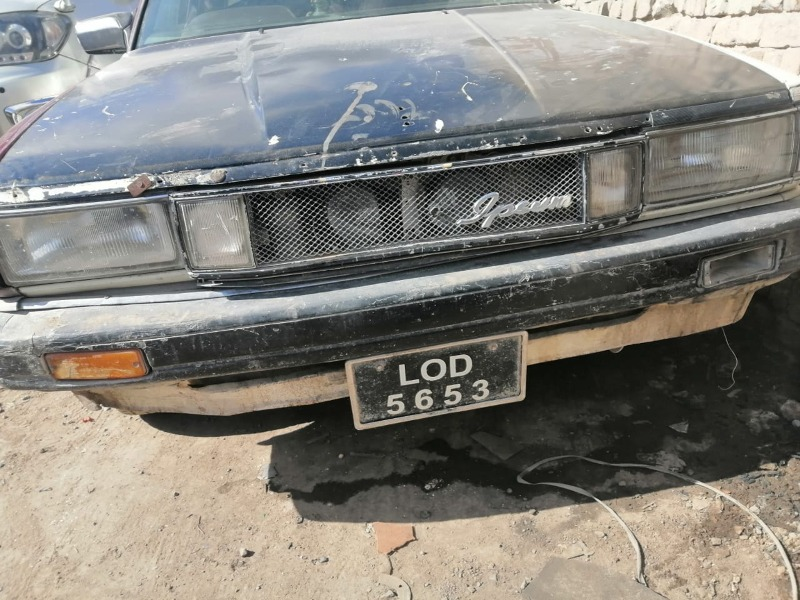License Plate: (345, 329, 528, 434)
